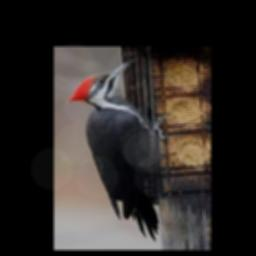Woodpecker: (66, 59, 168, 240)
